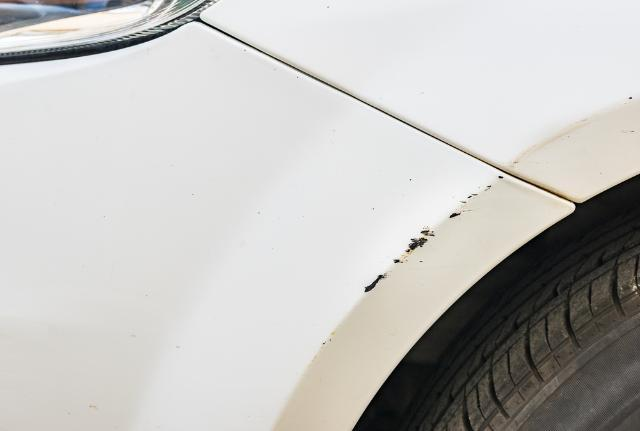scratch: (354, 177, 495, 296)
